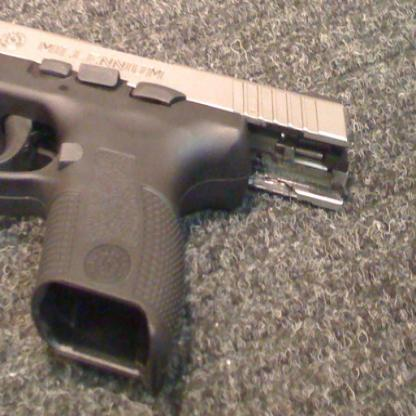gun: (0, 16, 351, 392)
